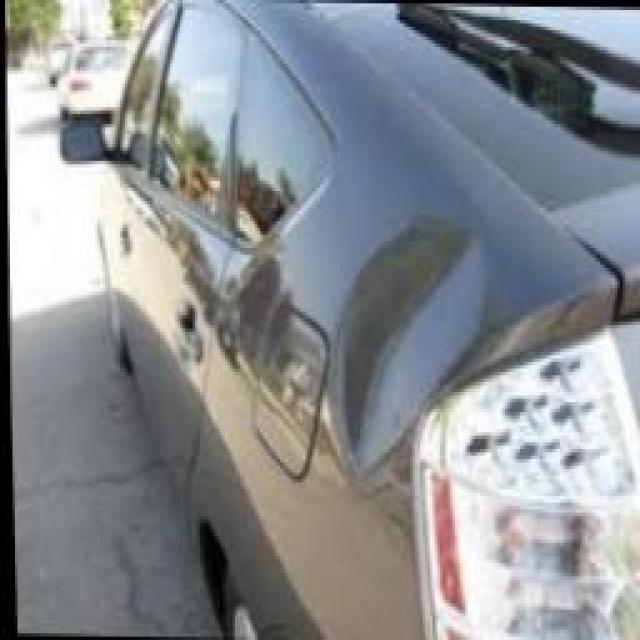Fender: (279, 193, 517, 549)
